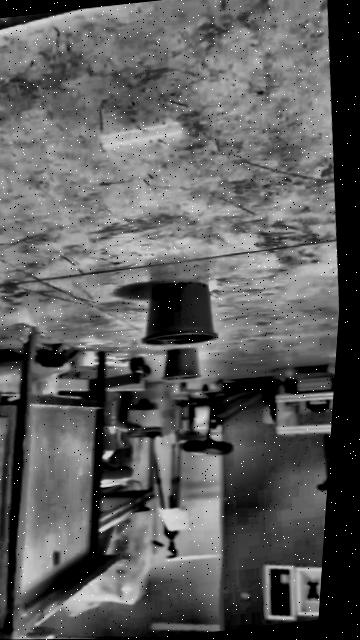pot: (135, 278, 221, 349), (158, 345, 202, 381)
